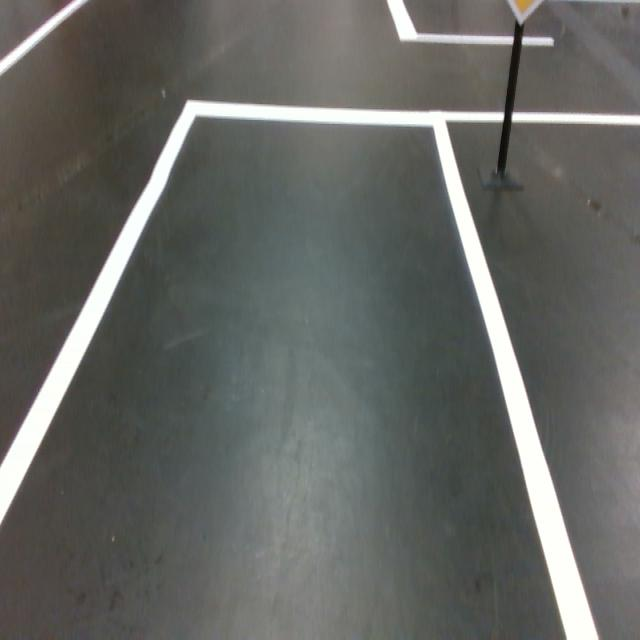priority-sign: (503, 0, 545, 28)
